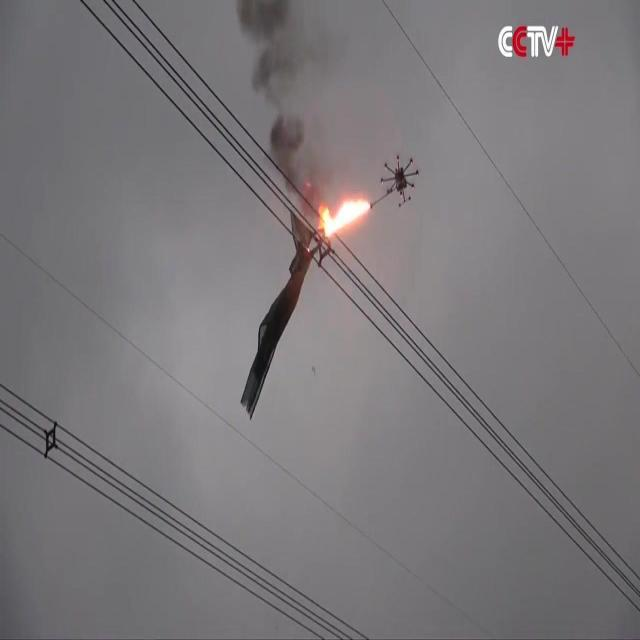drone: (379, 152, 421, 210)
